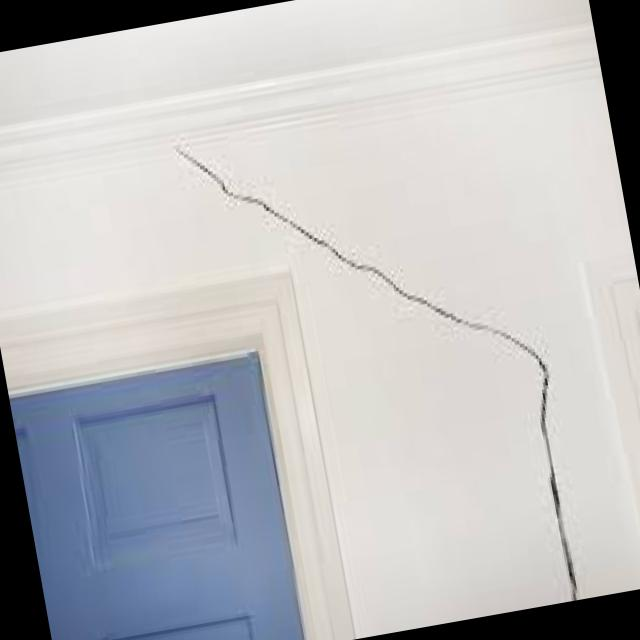crack: (169, 86, 541, 418), (522, 352, 590, 598)
